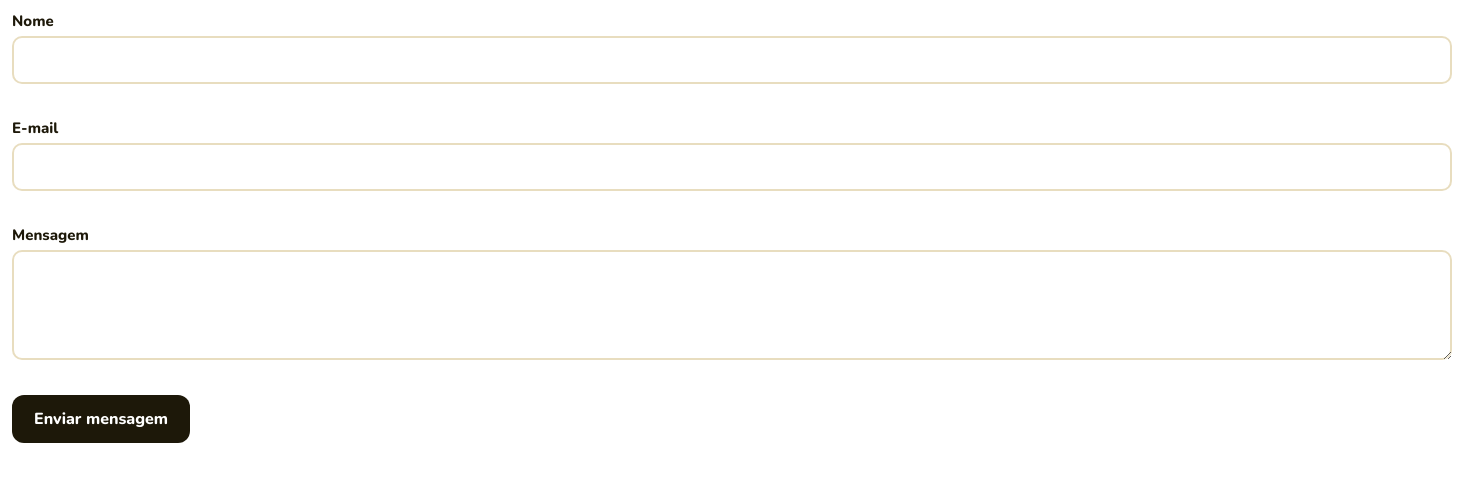
ContactForm › avisa quando o envio falha e mantém o que foi escrito
Type "Maria Silva" into the field labelled "Nome".
click(732, 60); type("Maria Silva")  # box [12,36,1452,84]
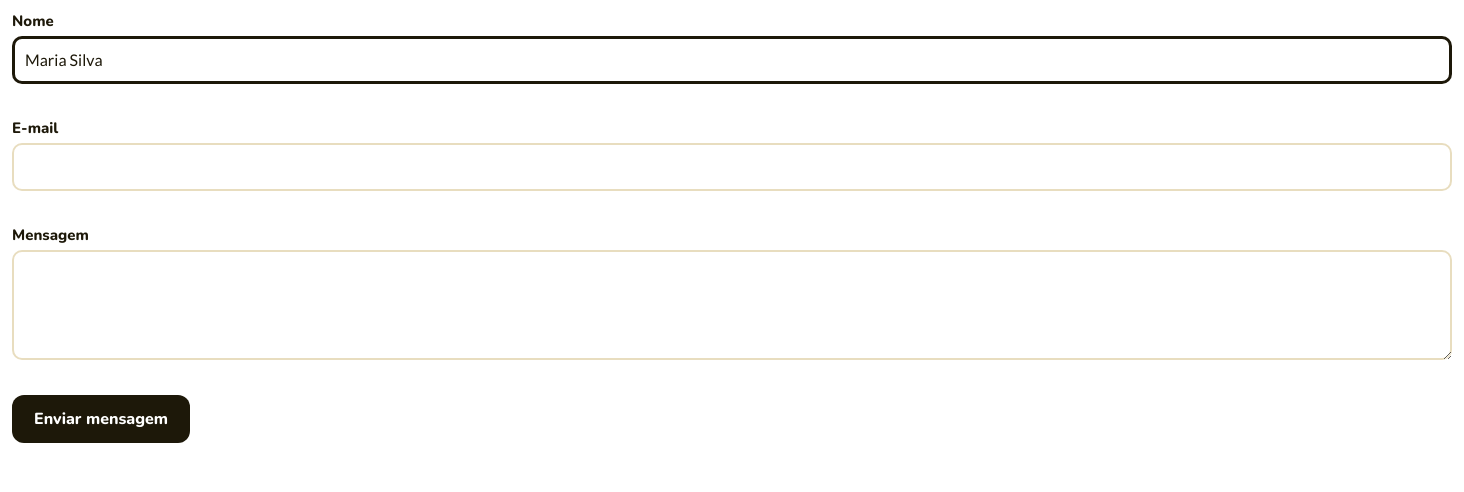
Type "maria@empresa.com" into the field labelled "E-mail".
click(732, 167); type("maria@empresa.com")  # box [12,143,1452,191]
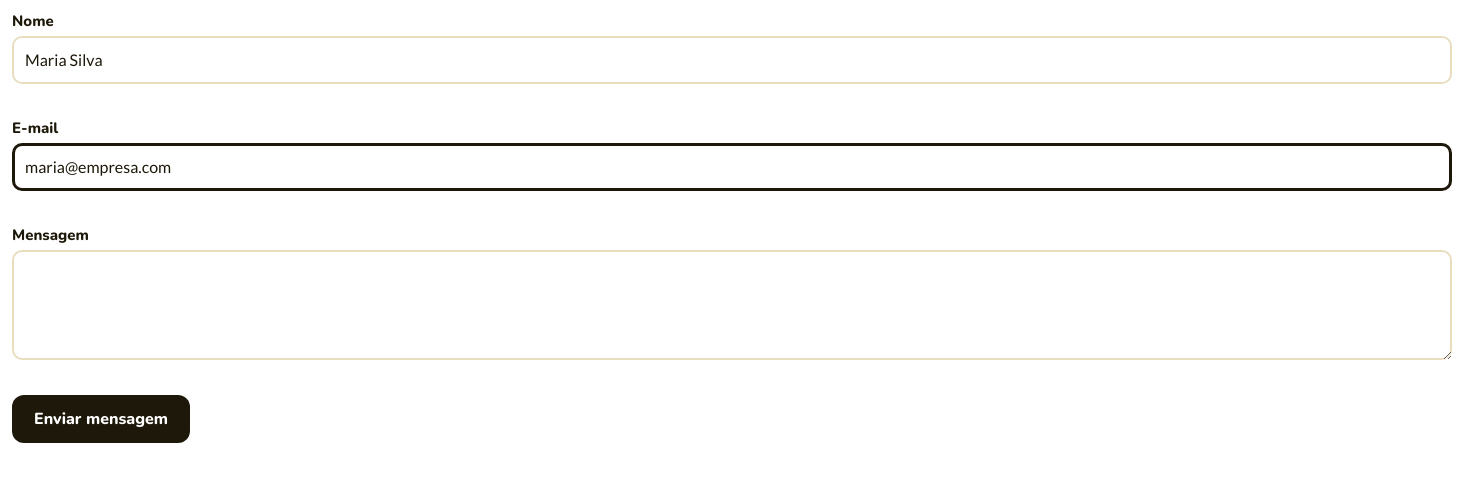
Type "Quero conversar sobre uma loja em VTEX." into the text box labelled "Mensagem".
click(732, 305); type("Quero conversar sobre uma loja em VTEX.")  # box [12,250,1452,360]
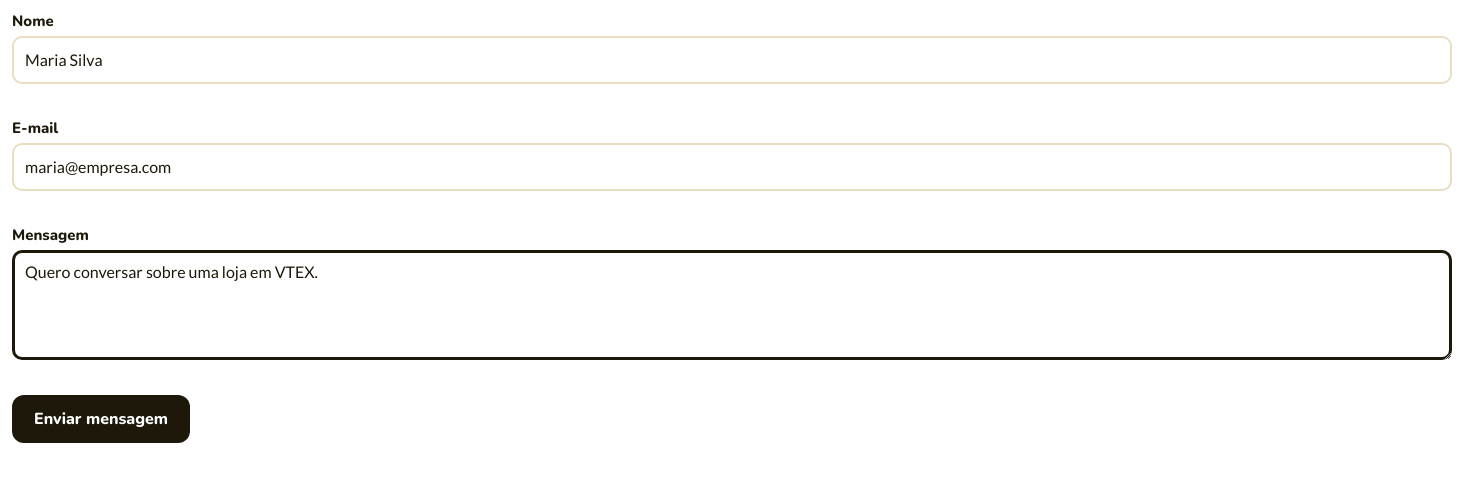
Click the button "Enviar mensagem".
click(101, 419)  # box [12,395,190,443]
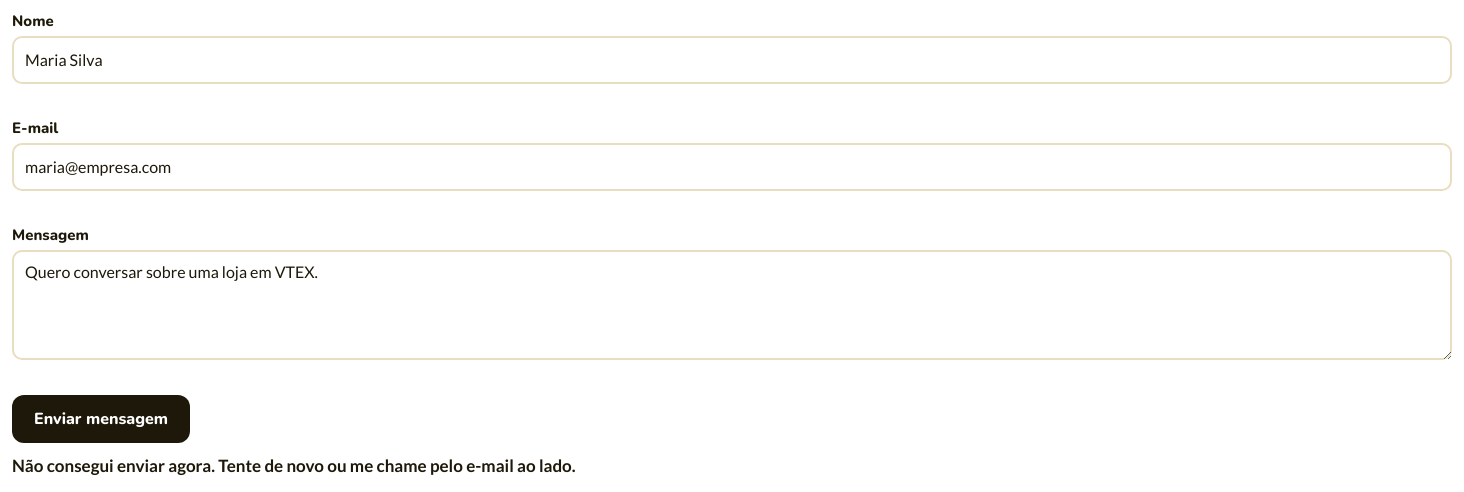
Expected: the text "Não consegui enviar agora. Tente de novo ou me chame pelo e-mail ao lado." is shown, [12,455,576,476]
